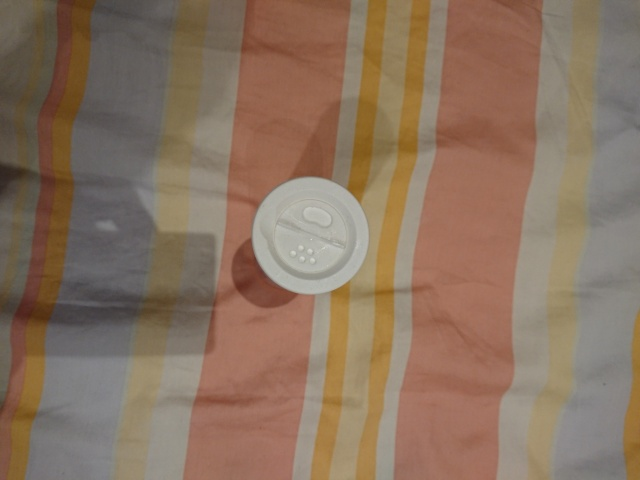Solana Pag Fine Sea Salt 250g: (247, 172, 372, 299)
